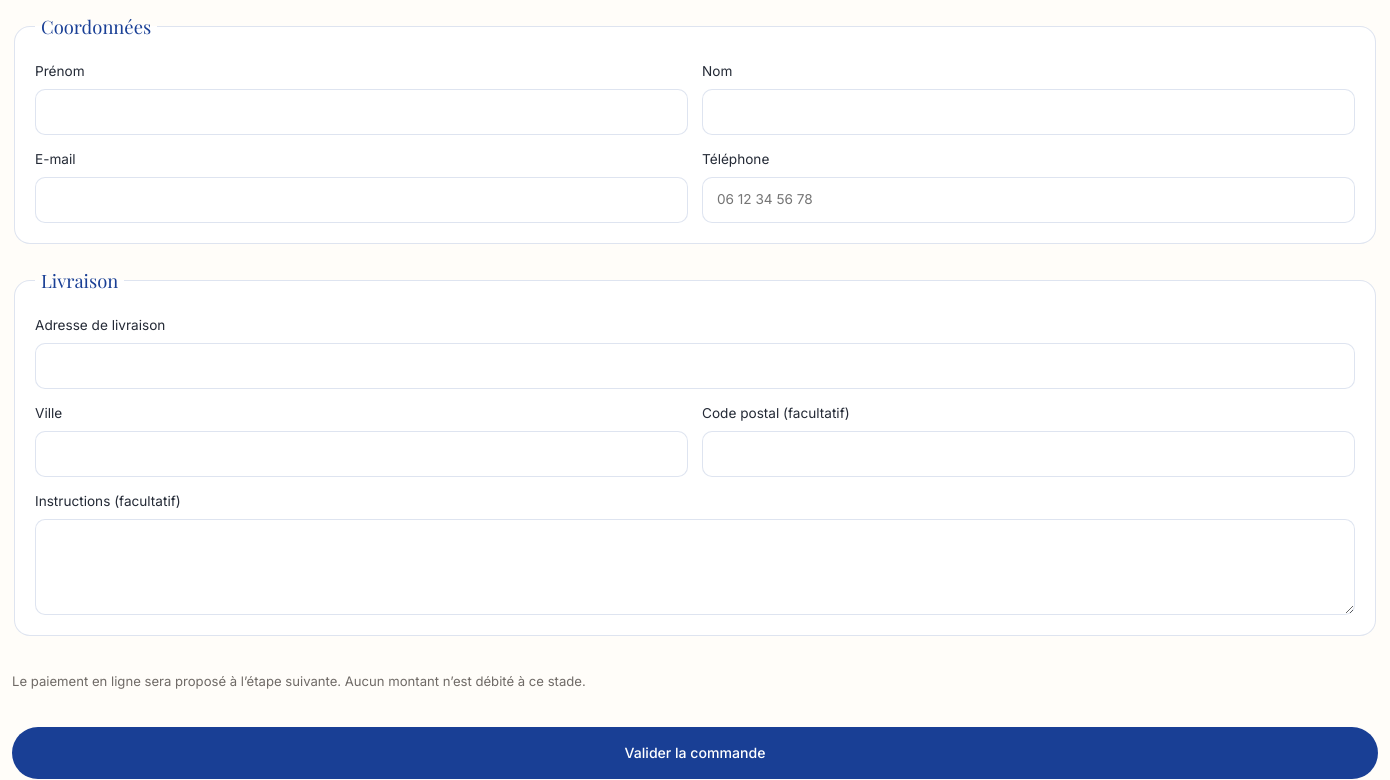
checkout form › explains stock problems and links back to the cart
Type "Salma" into the field labelled "Prénom". click: (362, 112)
box: left=35, top=89, right=688, bottom=135
Type "Bennani" into the field labelled "Nom". click: (1028, 112)
box: left=702, top=89, right=1355, bottom=135
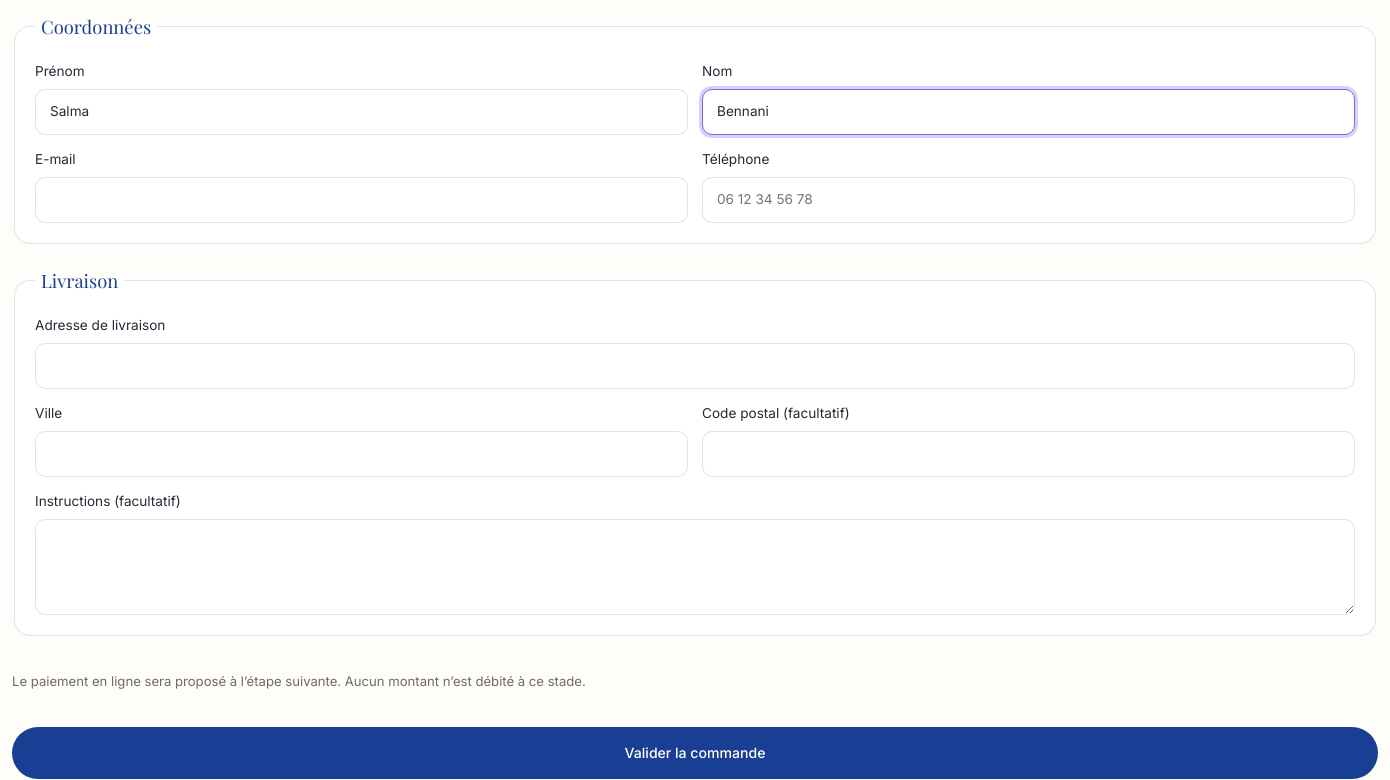
Type "salma@example.ma" into the field labelled "E-mail". click: (362, 200)
box: left=35, top=177, right=688, bottom=223
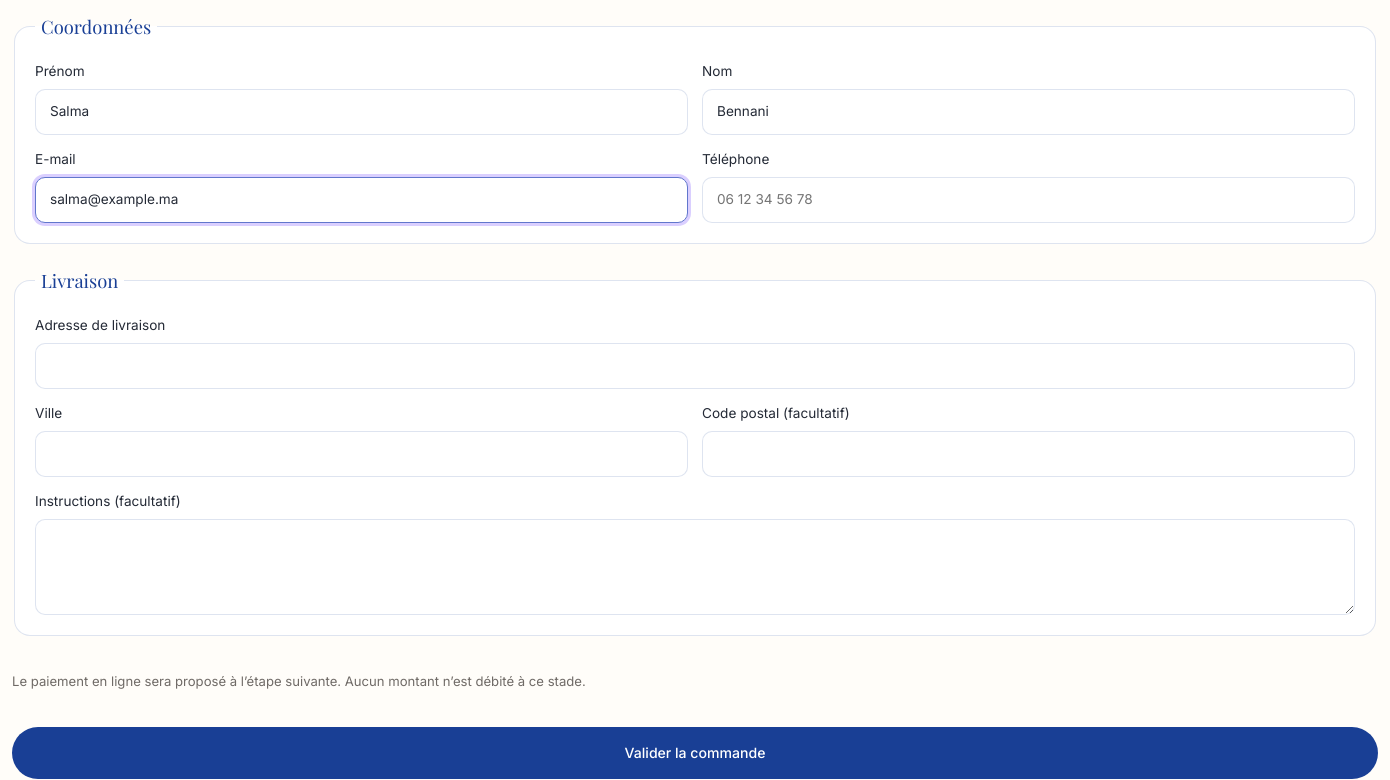
Type "0612345678" into the field labelled "Téléphone". click: (1028, 200)
box: left=702, top=177, right=1355, bottom=223
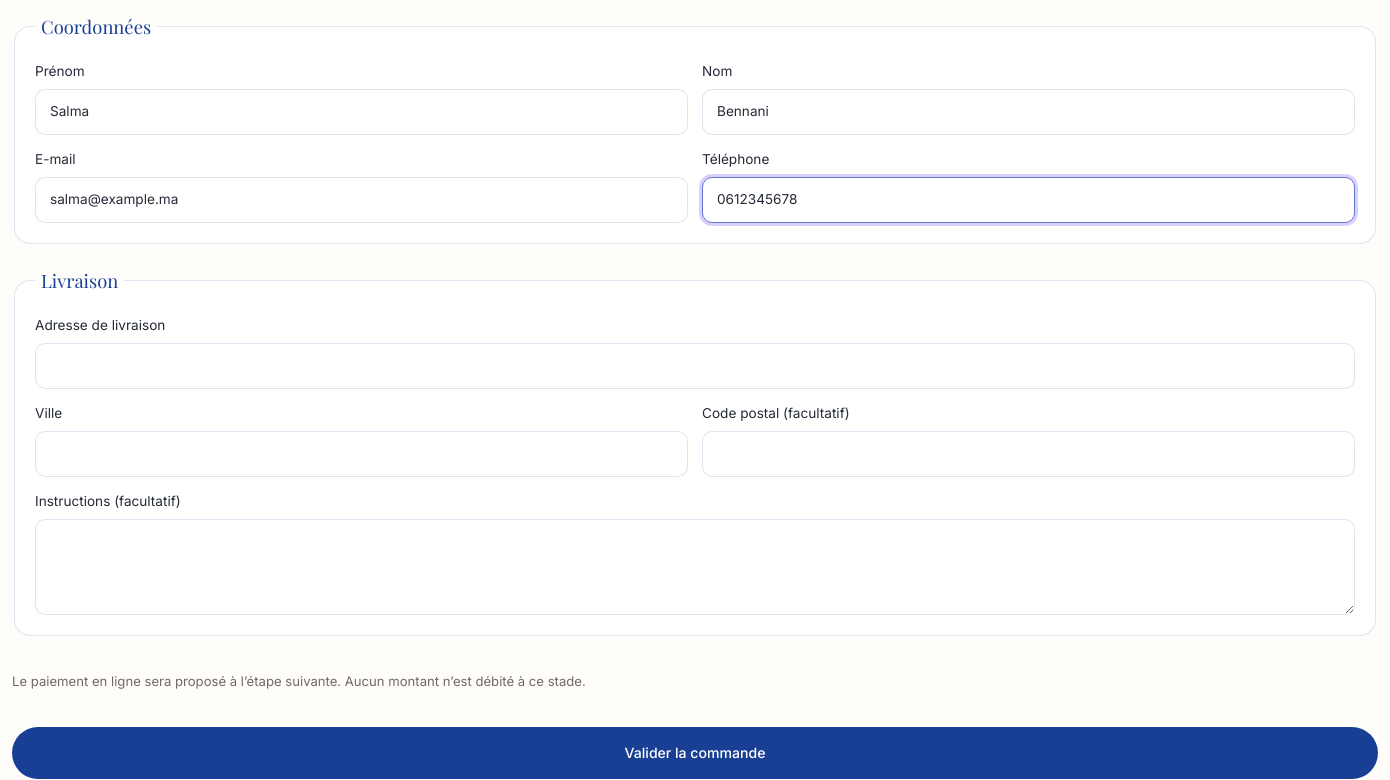
Type "12 rue des Orangers" into the field labelled "Adresse de livraison". click: (695, 366)
box: left=35, top=343, right=1355, bottom=389
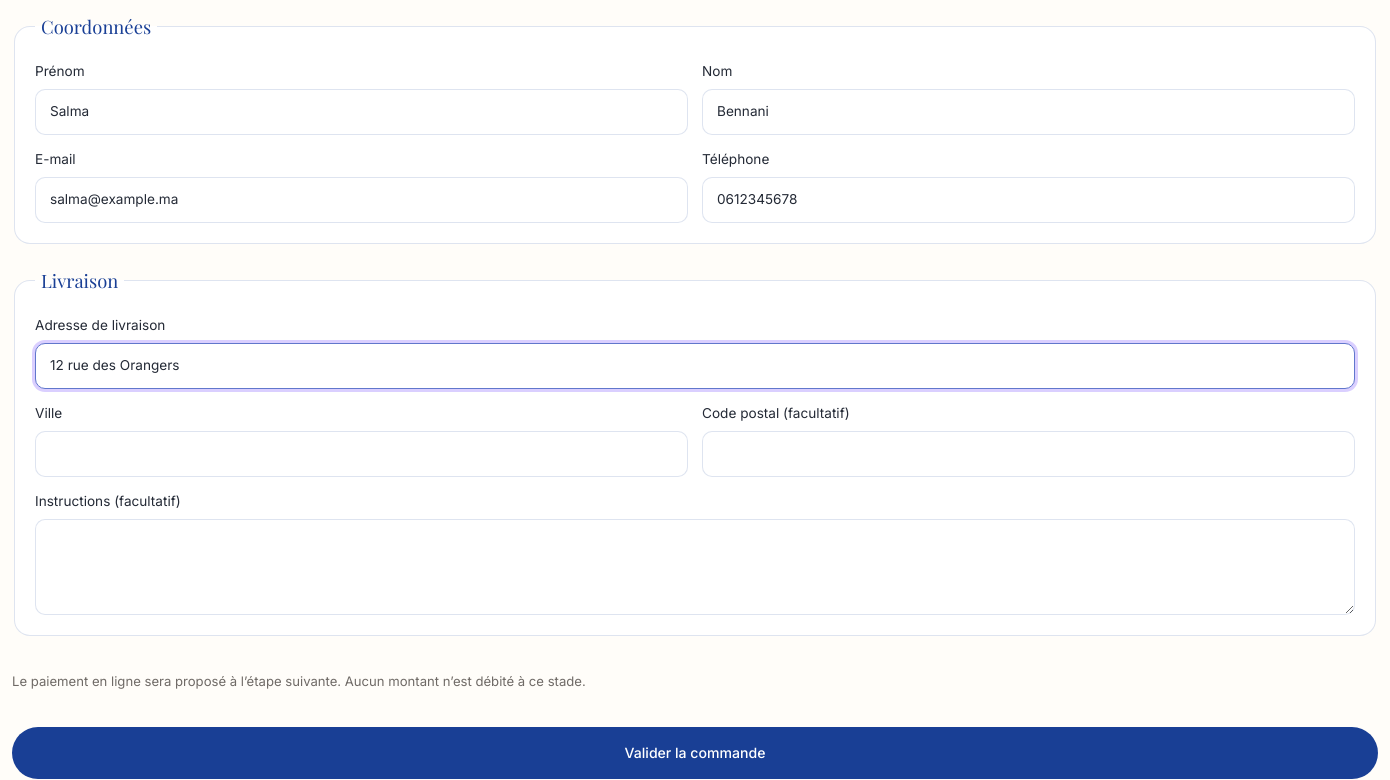
Type "Casablanca" into the field labelled "Ville". click: (362, 454)
box: left=35, top=431, right=688, bottom=477
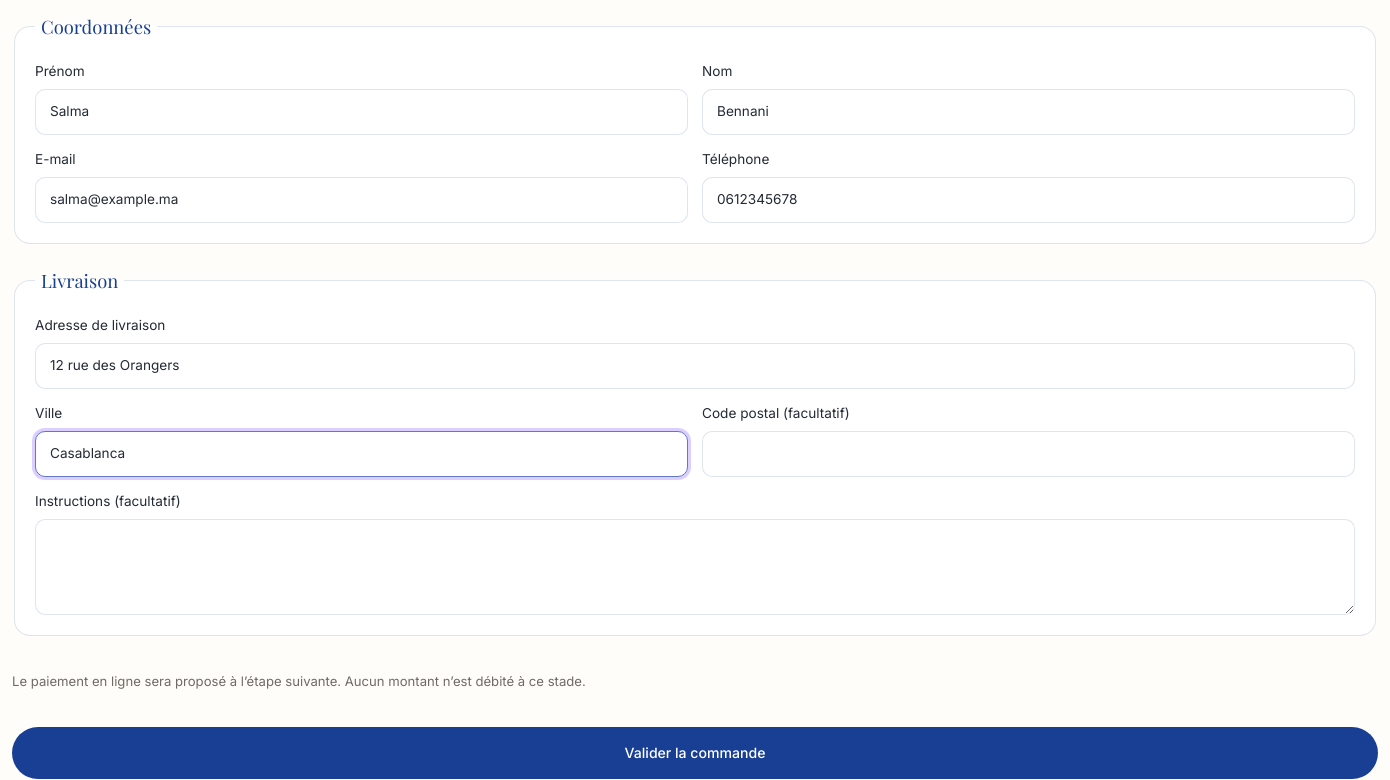
Click the button "Valider la commande". click: (695, 753)
box: left=12, top=727, right=1378, bottom=779
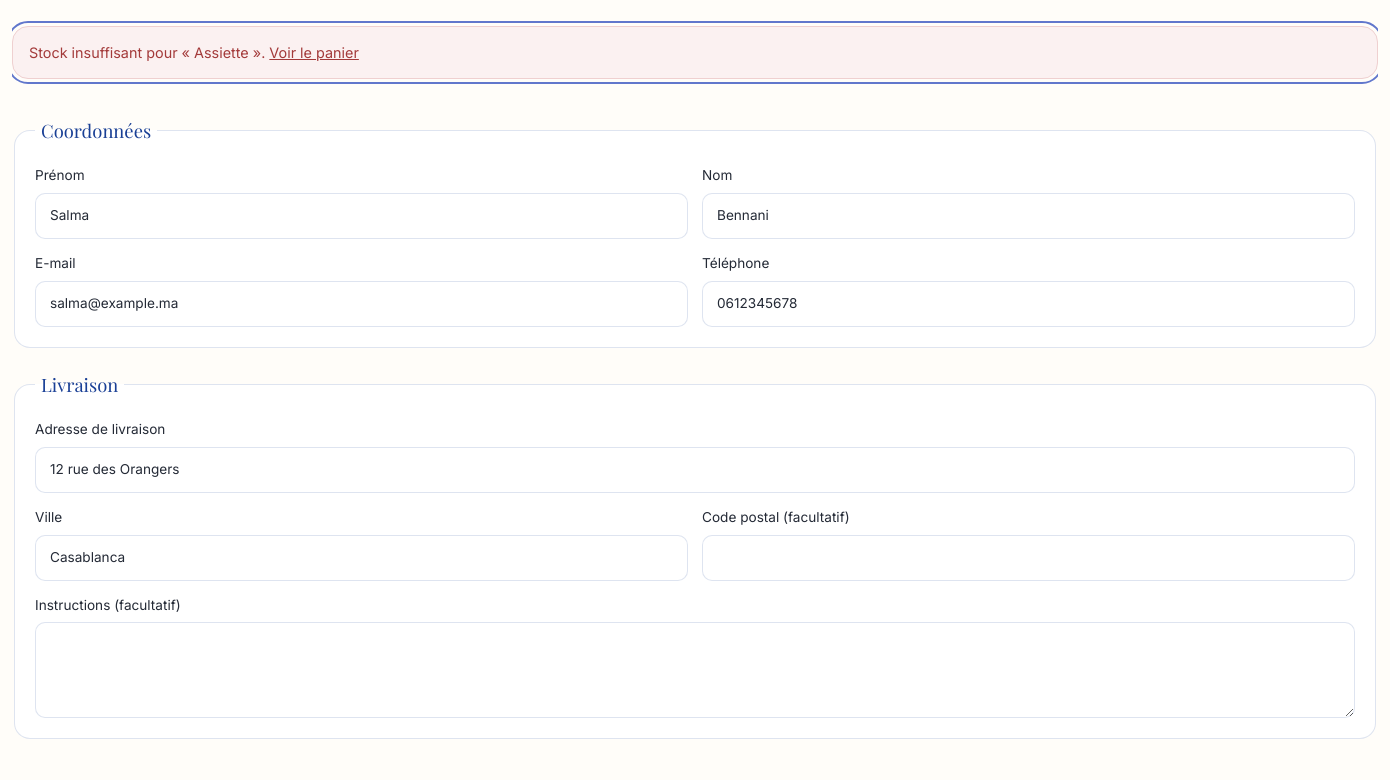
Result: the message shows "Stock insuffisant" at left=29, top=44, right=265, bottom=61
